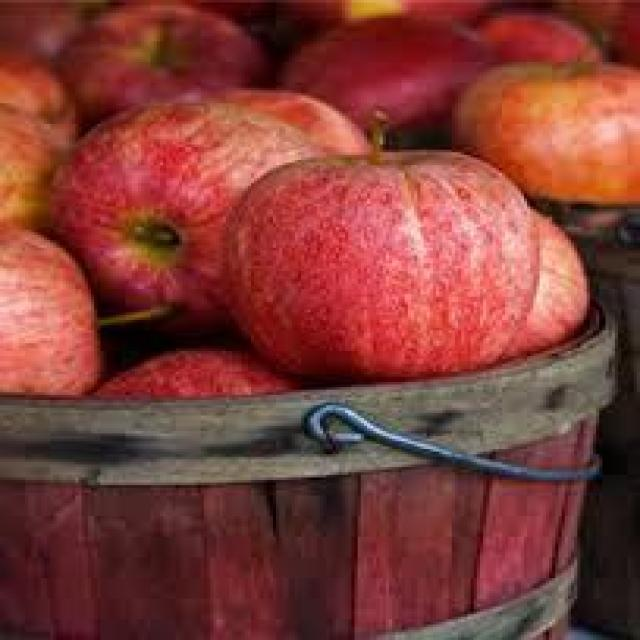maca: (0, 0, 637, 400), (216, 108, 590, 380)
